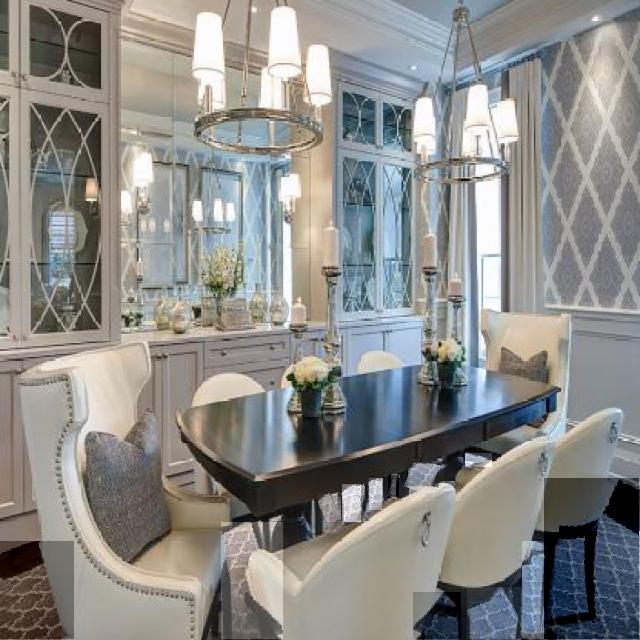floor: (544, 479, 640, 640), (0, 542, 74, 640), (222, 522, 283, 639), (467, 588, 525, 640), (414, 592, 461, 640), (523, 542, 545, 639), (405, 464, 447, 487), (319, 493, 340, 534), (343, 484, 361, 522), (369, 478, 382, 510), (466, 453, 492, 467), (388, 476, 399, 497)
